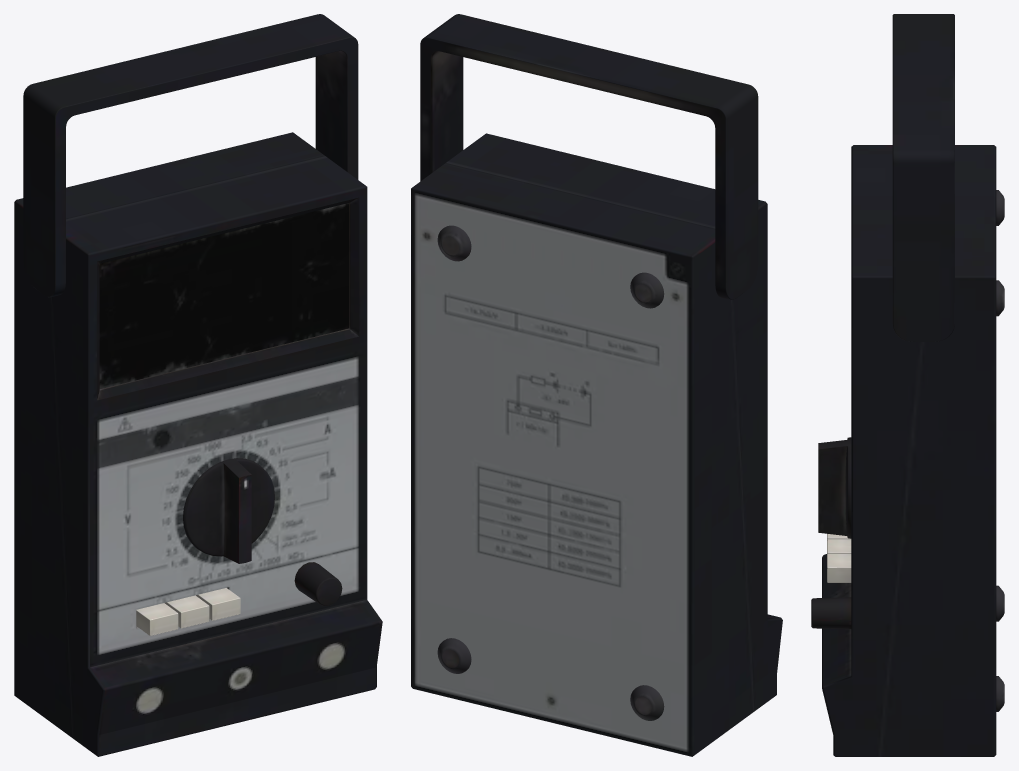
File: multimeter.glb
The picture shows the model from 3 angles, left to right: view 1: azimuth 30°, elevation 25°; view 2: azimuth 150°, elevation 25°; view 3: azimuth 270°, elevation 25°; orthographic projection. The views are drawn at different scales.
Parts seen in each view (by area): view 1: retro_multimeter_LOD0; view 2: retro_multimeter_LOD0; view 3: retro_multimeter_LOD0.
Part boxes in pixels (x1,y1,x2,y2): retro_multimeter_LOD0: [14, 14, 382, 756]; retro_multimeter_LOD0: [411, 14, 782, 756]; retro_multimeter_LOD0: [811, 14, 1004, 756].
Bounding box in the file's own units: 0.1407 × 0.2786 × 0.08.
2 materials, 2 textured.
